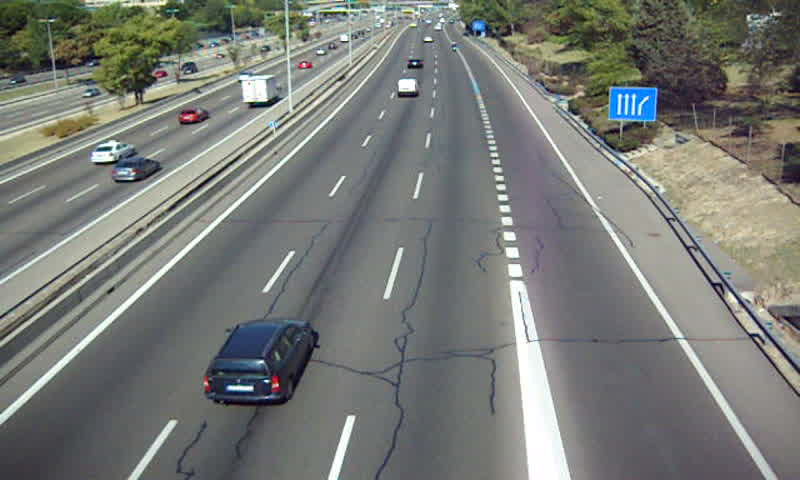car: (205, 322, 312, 403), (407, 57, 424, 69)
van: (396, 78, 418, 96)
